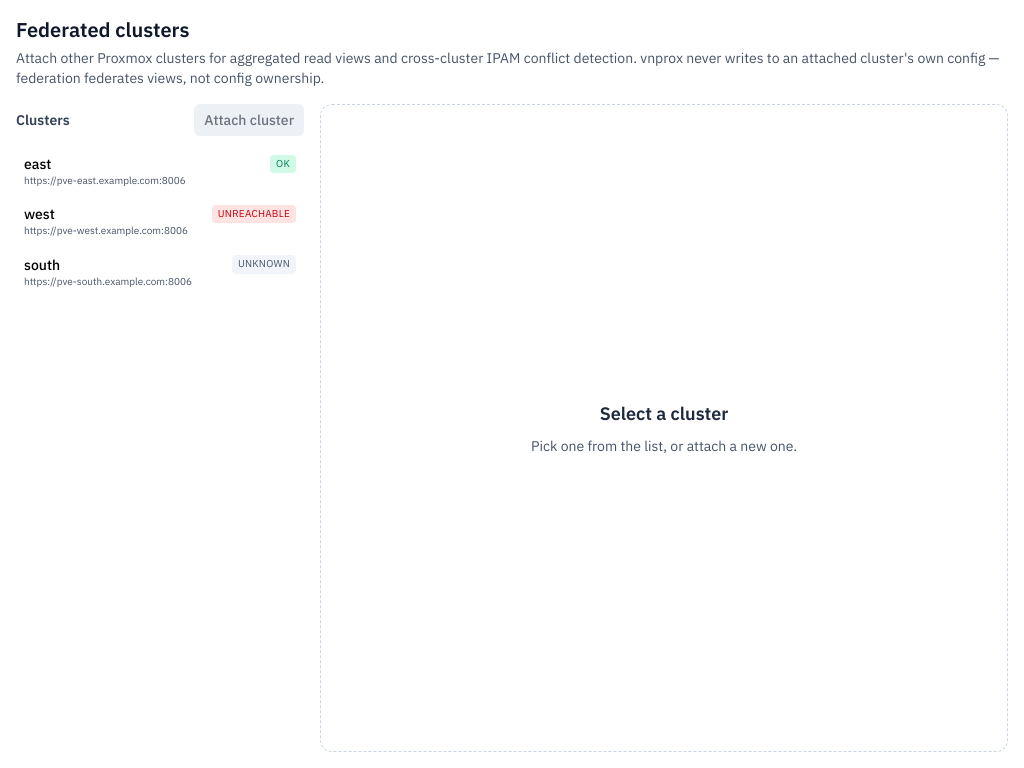
FederationClusters read-only gating › disables Attach cluster / Save / Detach / Clear override for a netWrite-less session, but the read view still works
This screenshot has width=1024, height=768.
Expected: the button "Attach cluster" is disabled, [194, 104, 304, 136]
Expected: the button "east ok https://pve-east.example.com:8006" is shown, [16, 148, 304, 194]
Click the button "west unreachable https://pve-west.example.com:8006".
click(160, 221)  # box [16, 198, 304, 245]
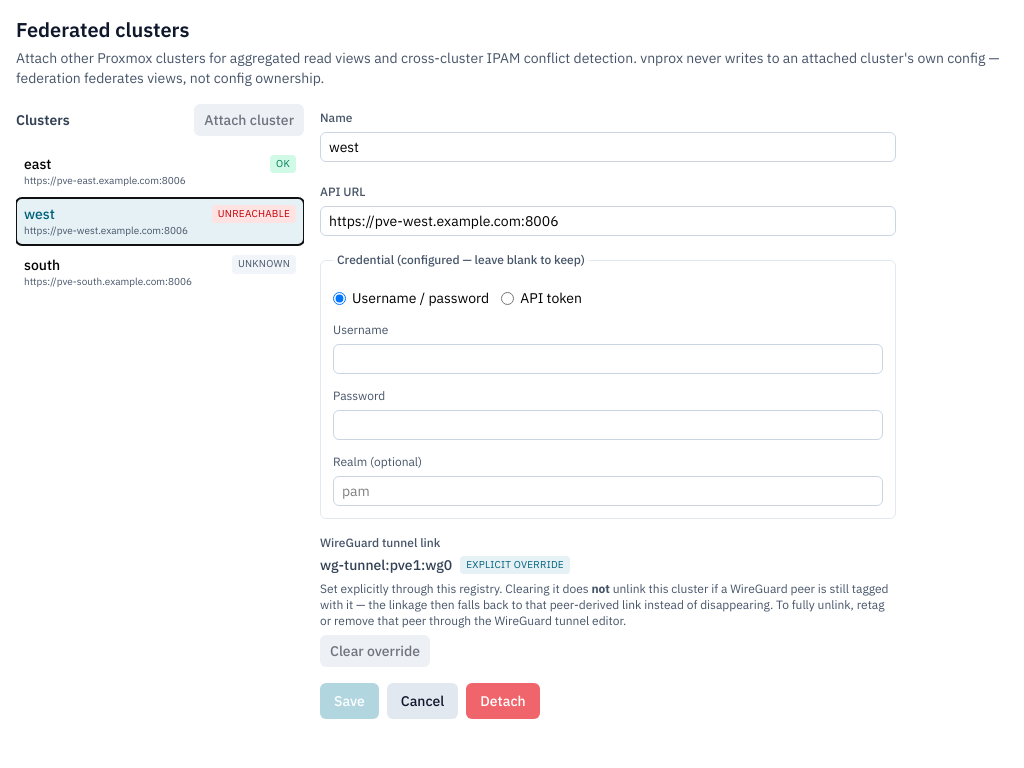
Result: the field labelled "Name" holds "west" at [320, 132, 896, 162]
Result: the button "Save" is disabled at [320, 683, 379, 719]
Result: the button "Detach" is disabled at [466, 683, 540, 719]
